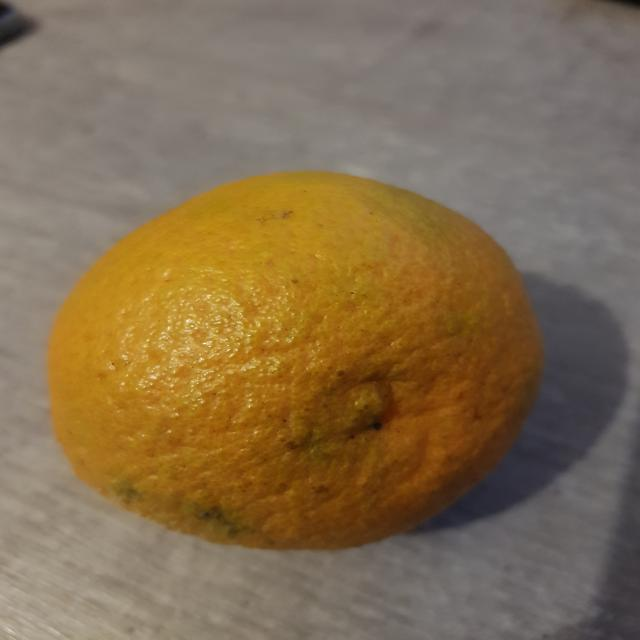Orange: (44, 171, 545, 555)
